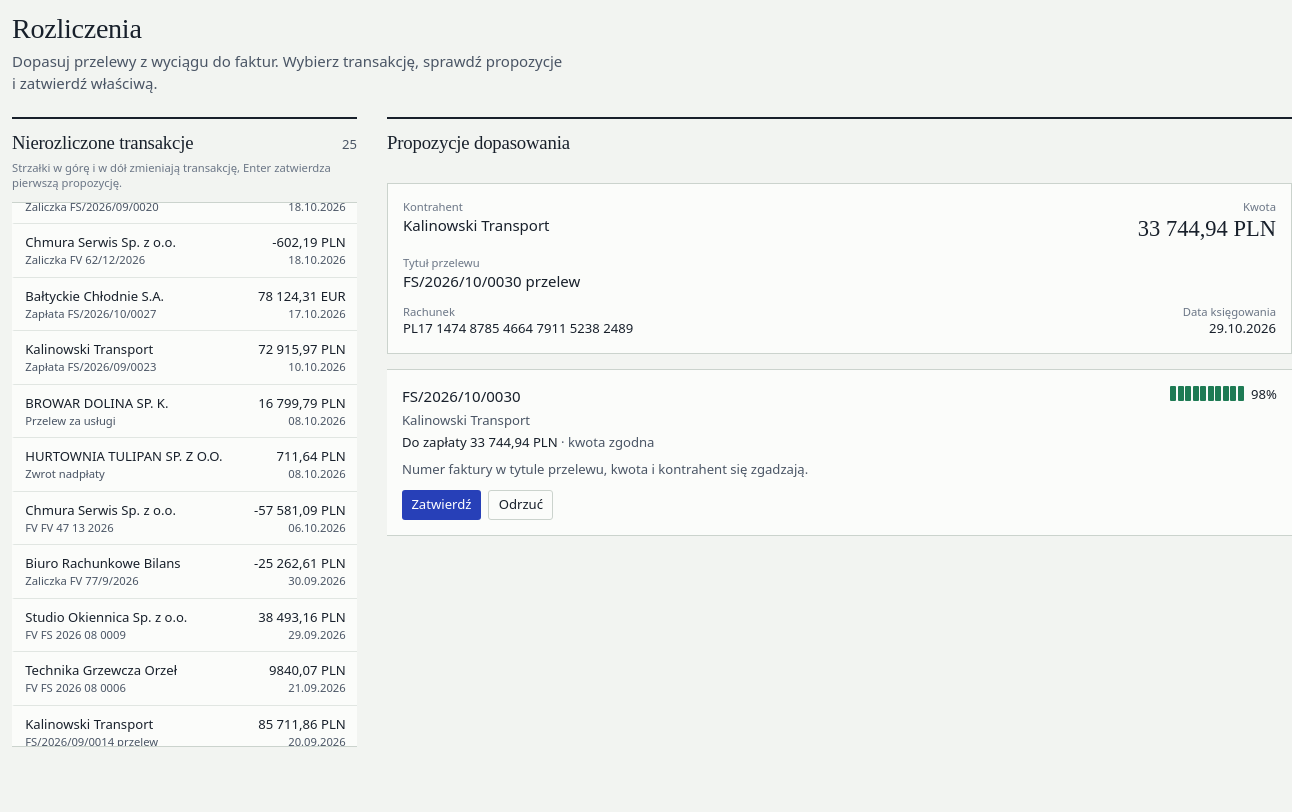
Test case: ReconciliationPage › wyjaśnia, co zrobić, gdy transakcja nie ma propozycji
(page scrolled)
Click the text "Zwrot nadpłaty": (65, 474) [25,466,105,481]
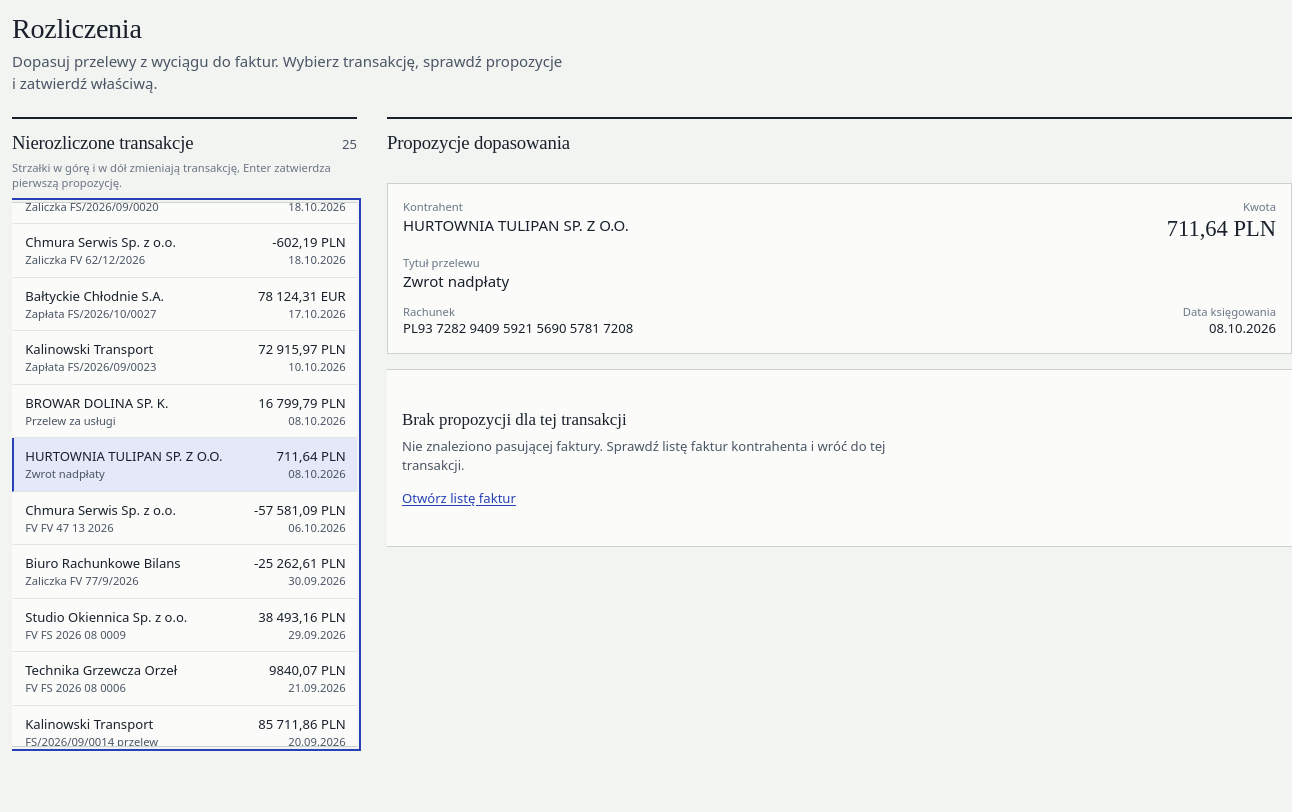
Expected: the text "Brak propozycji dla tej transakcji" is shown, [402,407,627,433]
Expected: the link "Otwórz listę faktur" is shown, [402,489,516,507]
